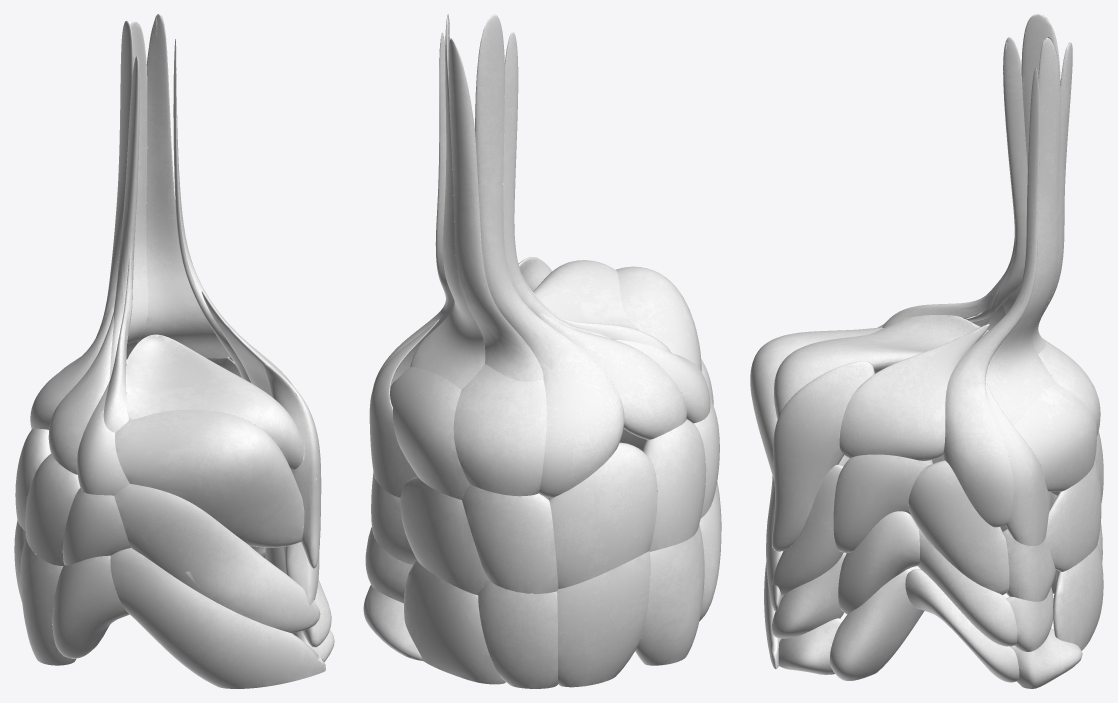
The model's file is E66-chair-v31.glb.
3 renders of one model, left to right at view 1: azimuth 30°, elevation 25°; view 2: azimuth 150°, elevation 25°; view 3: azimuth 270°, elevation 25°, orthographic. The views are drawn at different scales.
Visible parts, largest first — view 1: Object_1; view 2: Object_1; view 3: Object_1.
Boxes of the visible parts, <box> form: Object_1: <box>14,14,334,688</box>; Object_1: <box>363,14,721,688</box>; Object_1: <box>750,14,1103,688</box>.
Size of the model in its own units: 0.6043 by 1.24 by 0.6467.
Materials: 1 (1 with a texture image).
